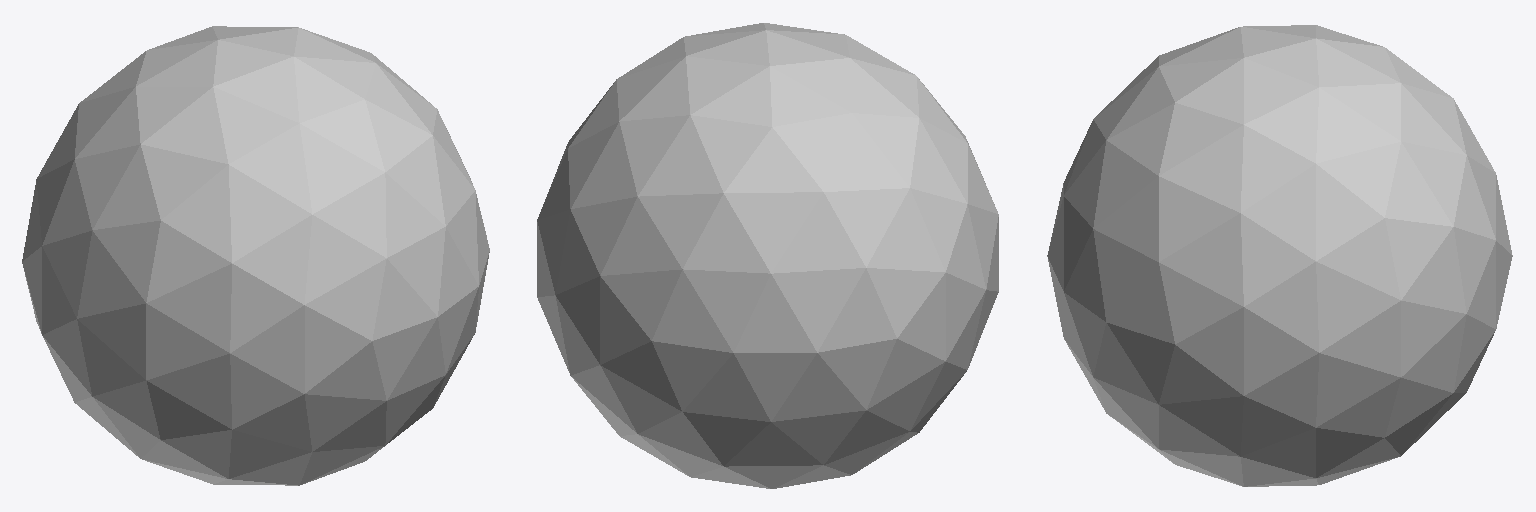
File: pallo.obj
3 views of the same model, side by side, from view 1: azimuth 30°, elevation 25°; view 2: azimuth 150°, elevation 25°; view 3: azimuth 270°, elevation 25° (orthographic).
Visible parts, largest first — view 1: GeoSphere001; view 2: GeoSphere001; view 3: GeoSphere001.
Boxes of the visible parts, x1,y1,x2,y2 form: GeoSphere001: [22, 26, 489, 485]; GeoSphere001: [537, 23, 998, 488]; GeoSphere001: [1047, 25, 1512, 486].
Bounding box in the file's own units: 1.4 × 1.4 × 1.42.